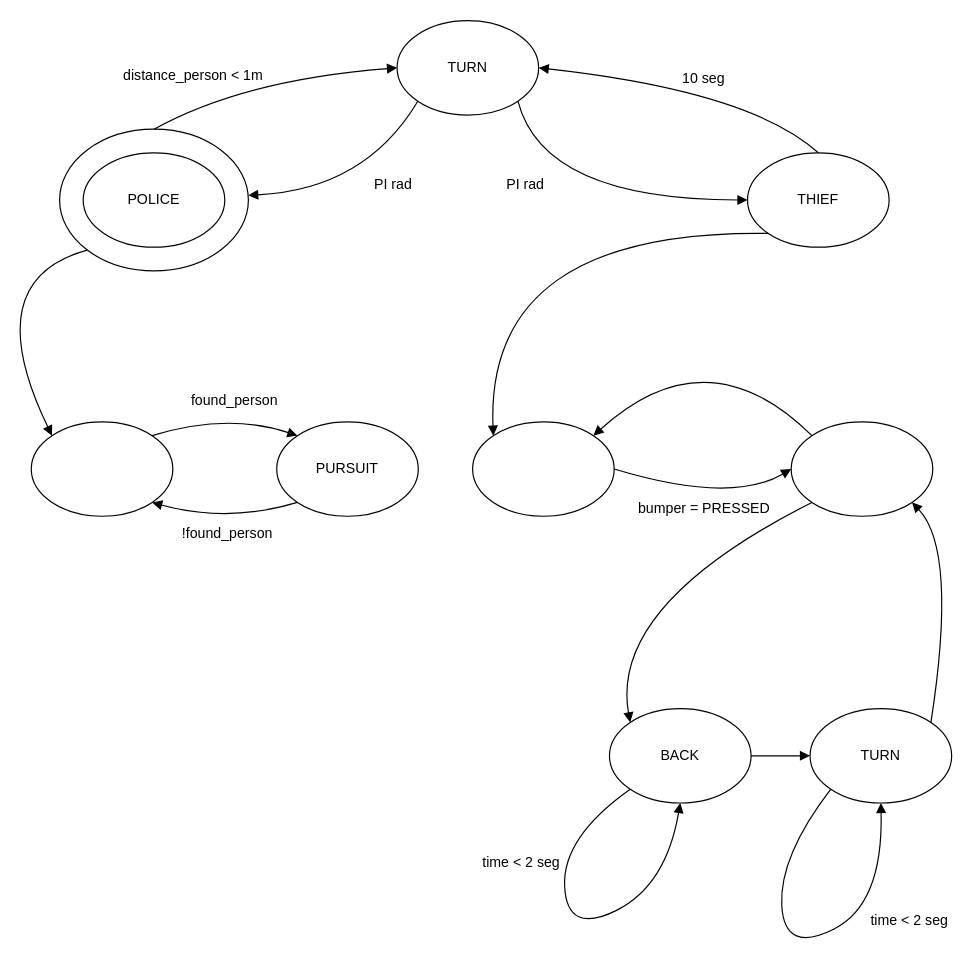
Image size: 973x959. Some labels were removed from this diagram. Each missing label, with the centre of its shape:
AVOID: the point at 861,468
FORWARD: the point at 542,468
SEARCH: the point at 101,468
